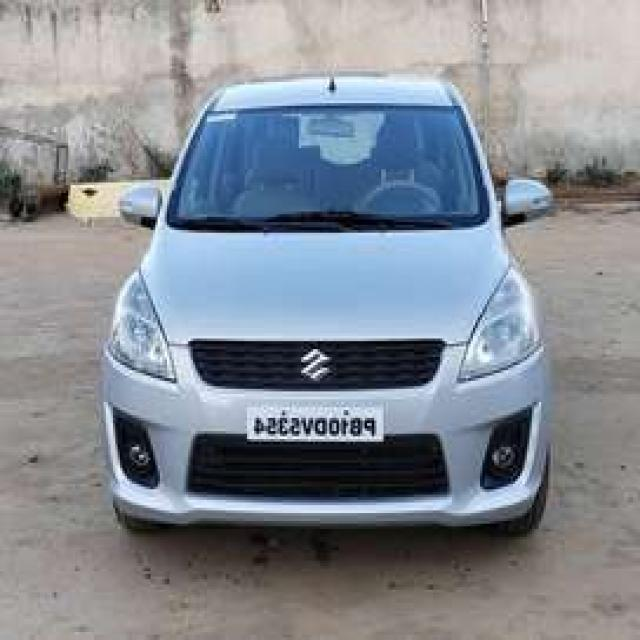license_plate: (241, 400, 391, 448)
